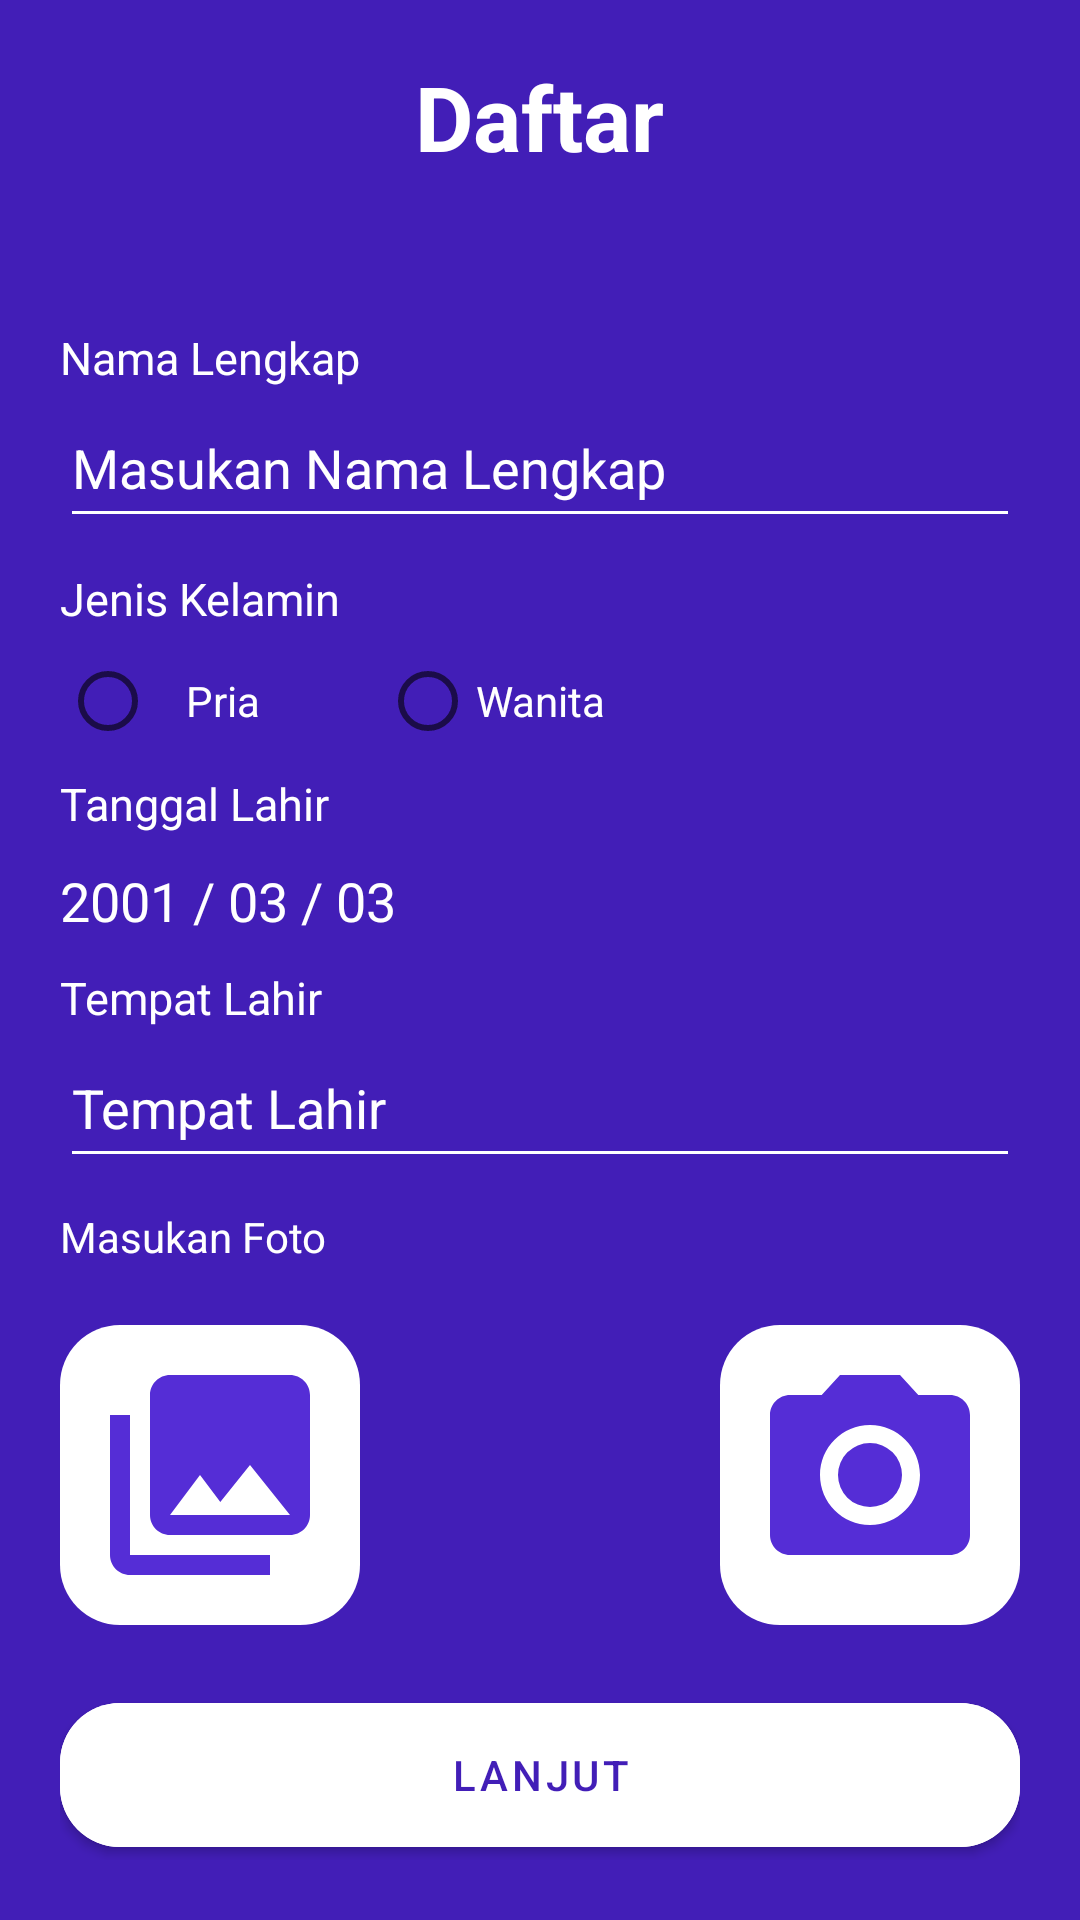

Named icons in this screenshot (1080×1920) and their bounding boxes, (x1, y1, x2, y2):
camera: (720, 1325, 1020, 1625)
photo library: (60, 1325, 360, 1625)
